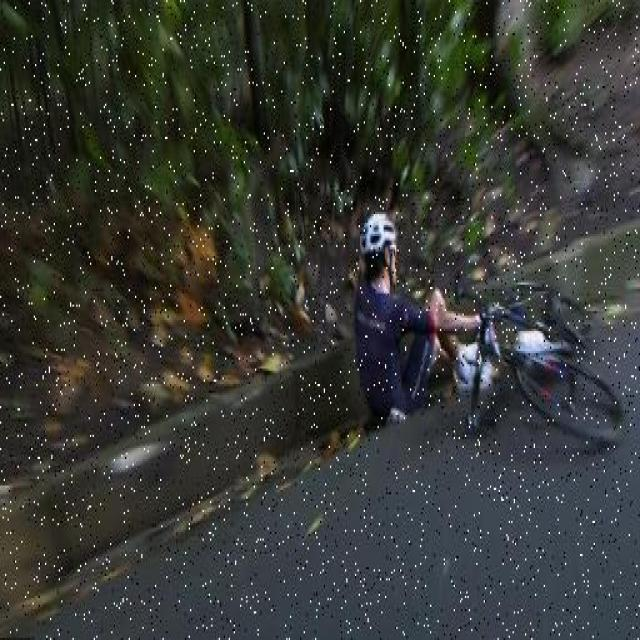fall: (360, 228, 472, 400)
